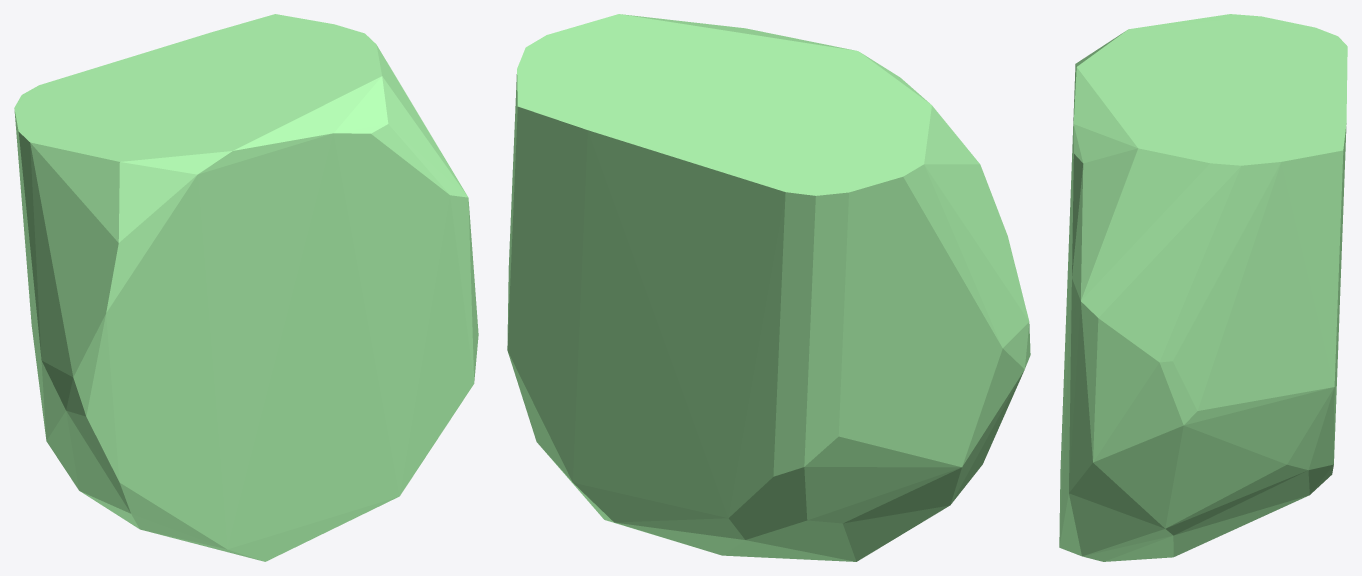
Rendered from dvkr_robot_R_link5_respondable_coll_1.dae.
The picture shows the model from 3 angles, left to right: view 1: azimuth 30°, elevation 25°; view 2: azimuth 150°, elevation 25°; view 3: azimuth 270°, elevation 25°; orthographic projection. The views are drawn at different scales.
Visible parts, largest first — view 1: Node_0000023514CD9BB0; view 2: Node_0000023514CD9BB0; view 3: Node_0000023514CD9BB0.
Part boxes in pixels (left/top/right/bottom): Node_0000023514CD9BB0: left=14, top=14, right=478, bottom=561; Node_0000023514CD9BB0: left=507, top=14, right=1030, bottom=561; Node_0000023514CD9BB0: left=1059, top=14, right=1347, bottom=561.
Size of the model in its own units: 0.1057 by 0.104 by 0.0606.
